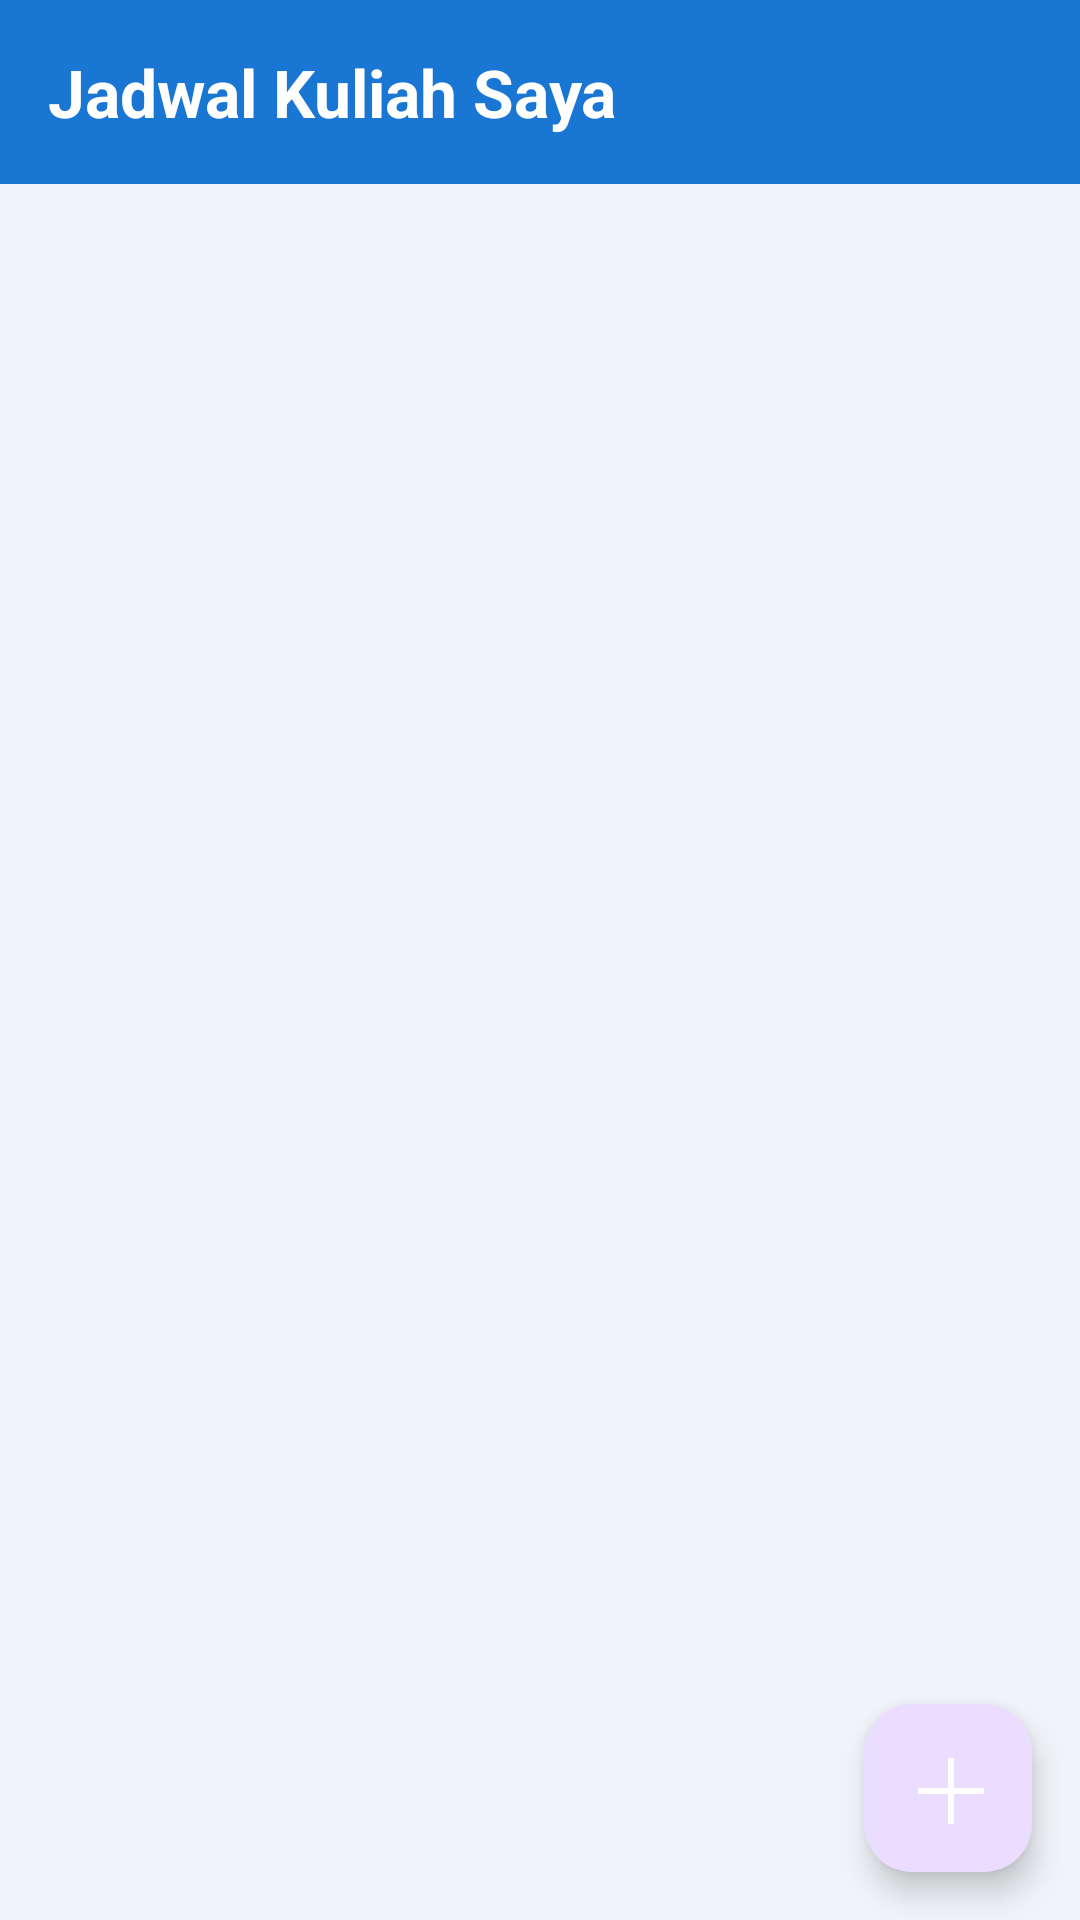

Icons on this 1080x1920 Android screen, each with its box as (x1, y1, x2, y2):
Tambah Jadwal Kuliah: (864, 1704, 1032, 1872)
